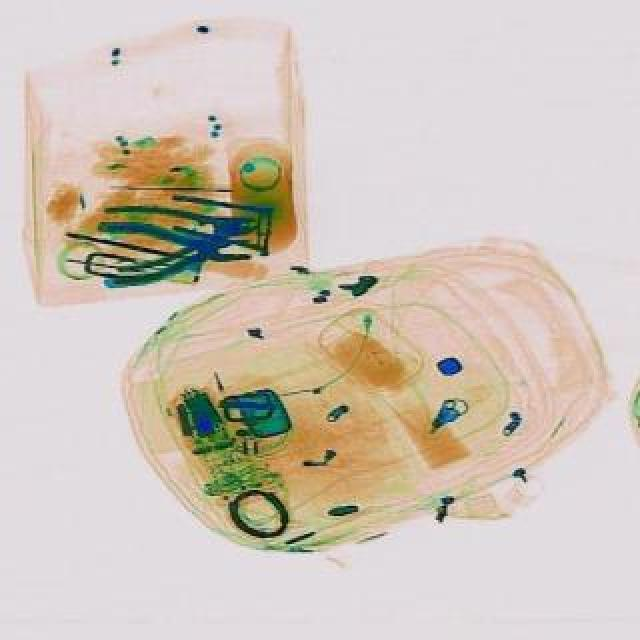wrench: (100, 194, 258, 272), (94, 216, 246, 288)
